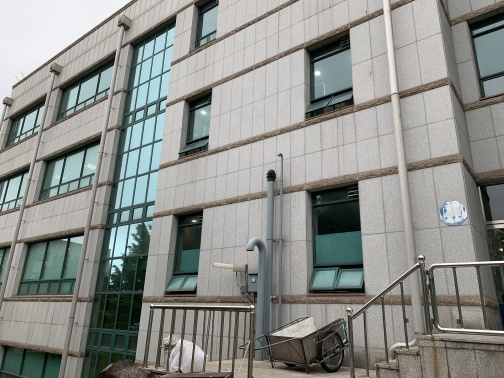Second Library: (13, 26, 463, 364)
